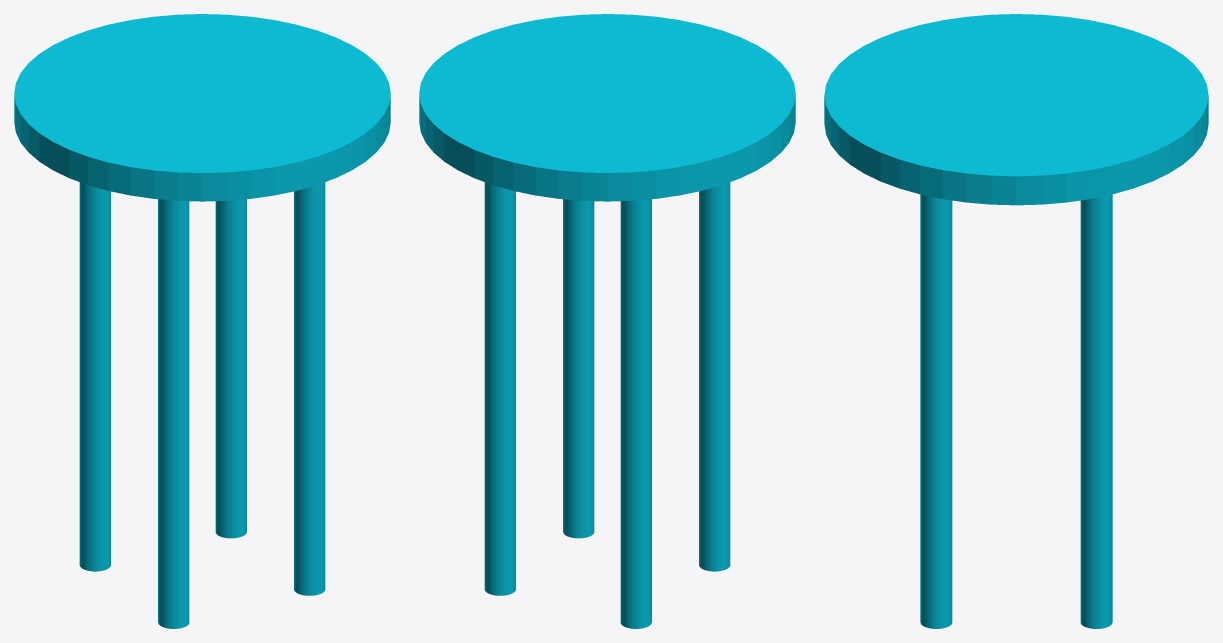
The model's file is Simple Barstool.glb.
3 renders of one model, left to right at view 1: azimuth 30°, elevation 25°; view 2: azimuth 150°, elevation 25°; view 3: azimuth 270°, elevation 25°, orthographic. The views are drawn at different scales.
Parts seen in each view (by area): view 1: Seat, Leg 3, Leg 2, Leg 4, Leg 1; view 2: Seat, Leg 4, Leg 1, Leg 3, Leg 2; view 3: Seat, Leg 1, Leg 2.
Part boxes in pixels (bbox=[...]): Seat: bbox=[14, 14, 390, 201]; Leg 3: bbox=[158, 199, 189, 628]; Leg 2: bbox=[294, 182, 325, 595]; Leg 4: bbox=[79, 182, 110, 571]; Leg 1: bbox=[215, 199, 246, 538]; Seat: bbox=[419, 14, 795, 201]; Leg 4: bbox=[620, 199, 651, 628]; Leg 1: bbox=[484, 182, 515, 595]; Leg 3: bbox=[699, 182, 730, 571]; Leg 2: bbox=[563, 199, 594, 538]; Seat: bbox=[824, 14, 1208, 205]; Leg 1: bbox=[1080, 194, 1112, 628]; Leg 2: bbox=[920, 194, 952, 628].
Size of the model in its own units: 38.1 by 53.98 by 38.1.
